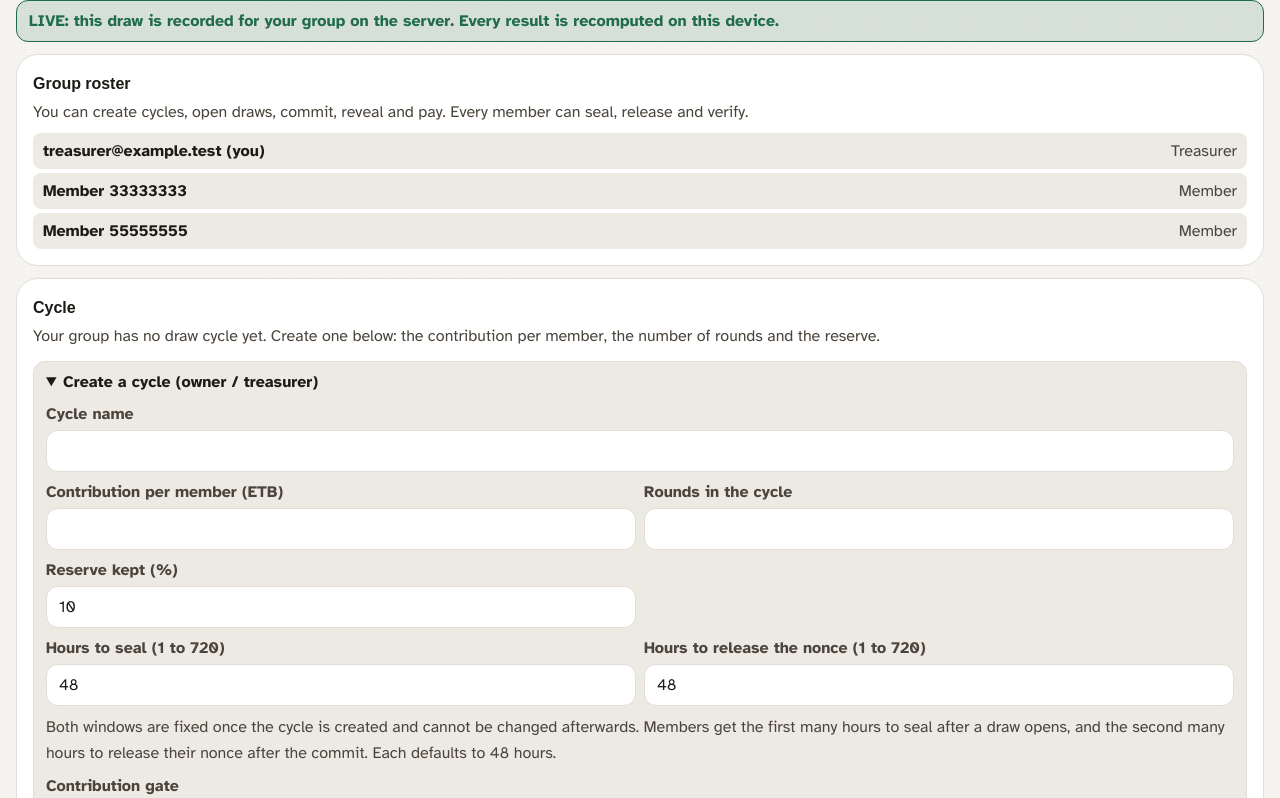
Test: signed in: cycles › refuses rounds beyond the number of members before asking the server
This screenshot has width=1280, height=798.
In the field labelled "Cycle name": (640, 451) [46, 430, 1234, 472], type "Too long"
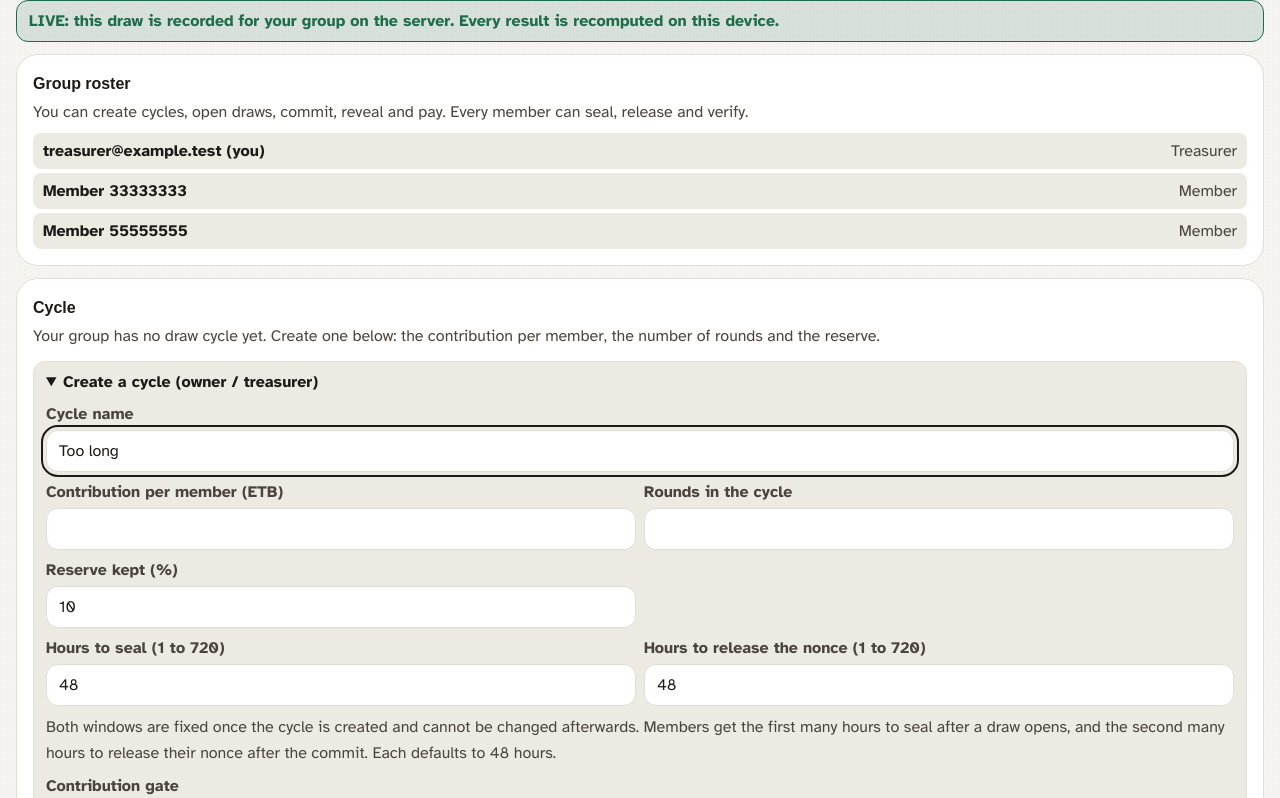
In the field labelled "Contribution per member (ETB)": (341, 529) [46, 508, 636, 550], type "1000"
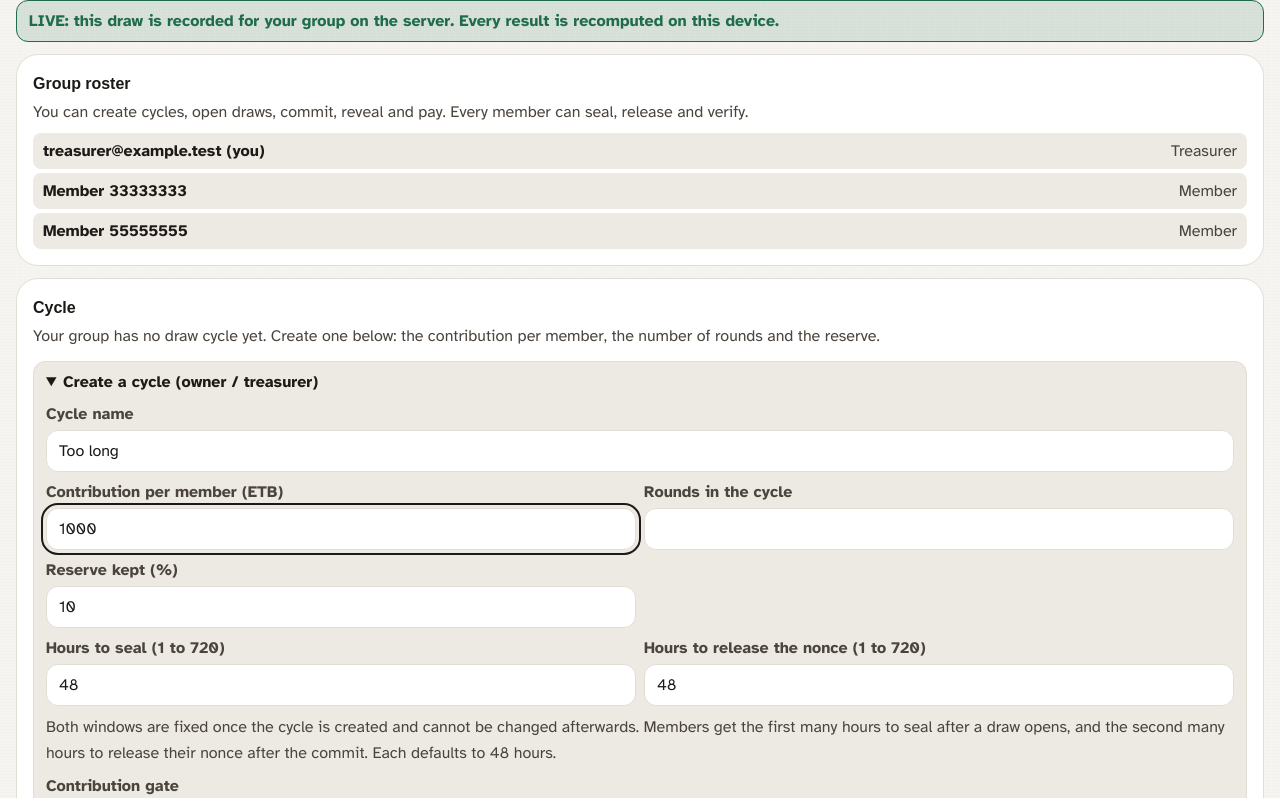
In the field labelled "Rounds in the cycle": (939, 529) [644, 508, 1234, 550], type "9"
(page scrolled)
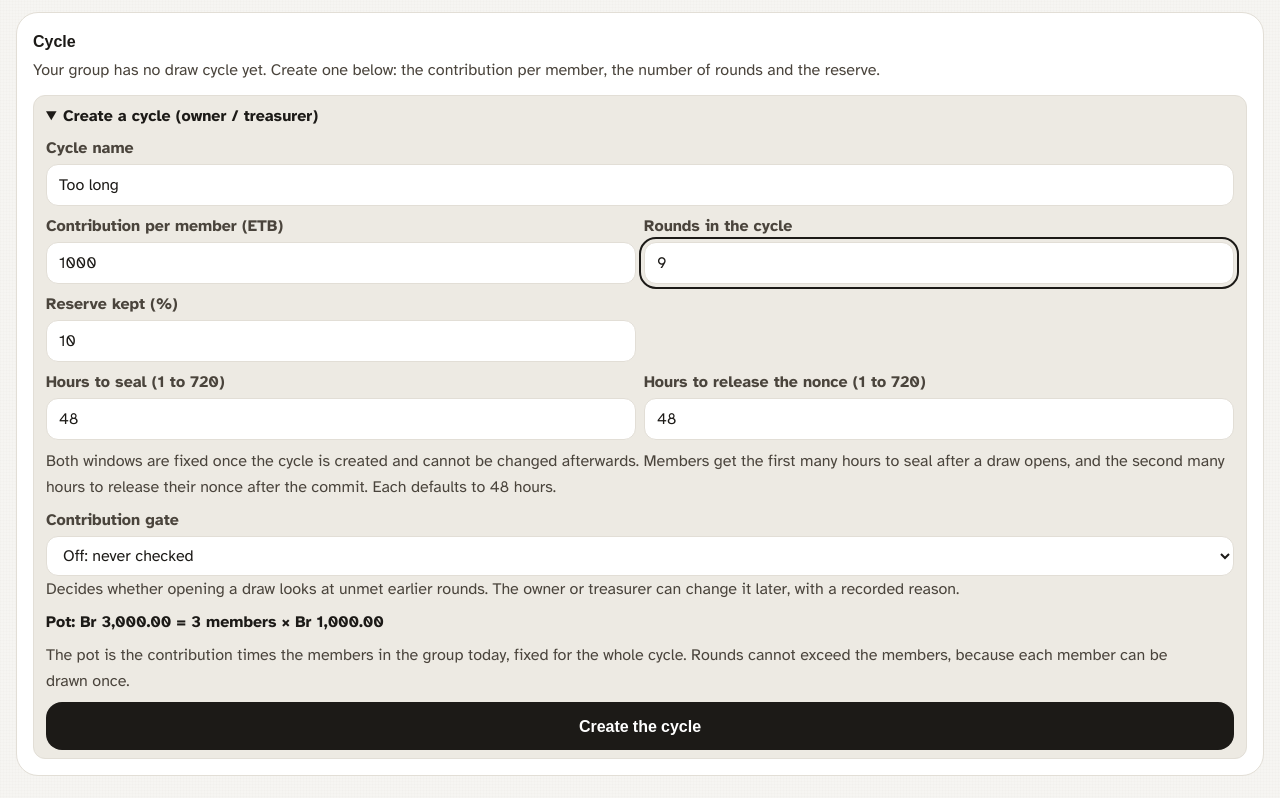
Click the button "Create the cycle": (640, 726) [46, 702, 1234, 750]
(page scrolled)
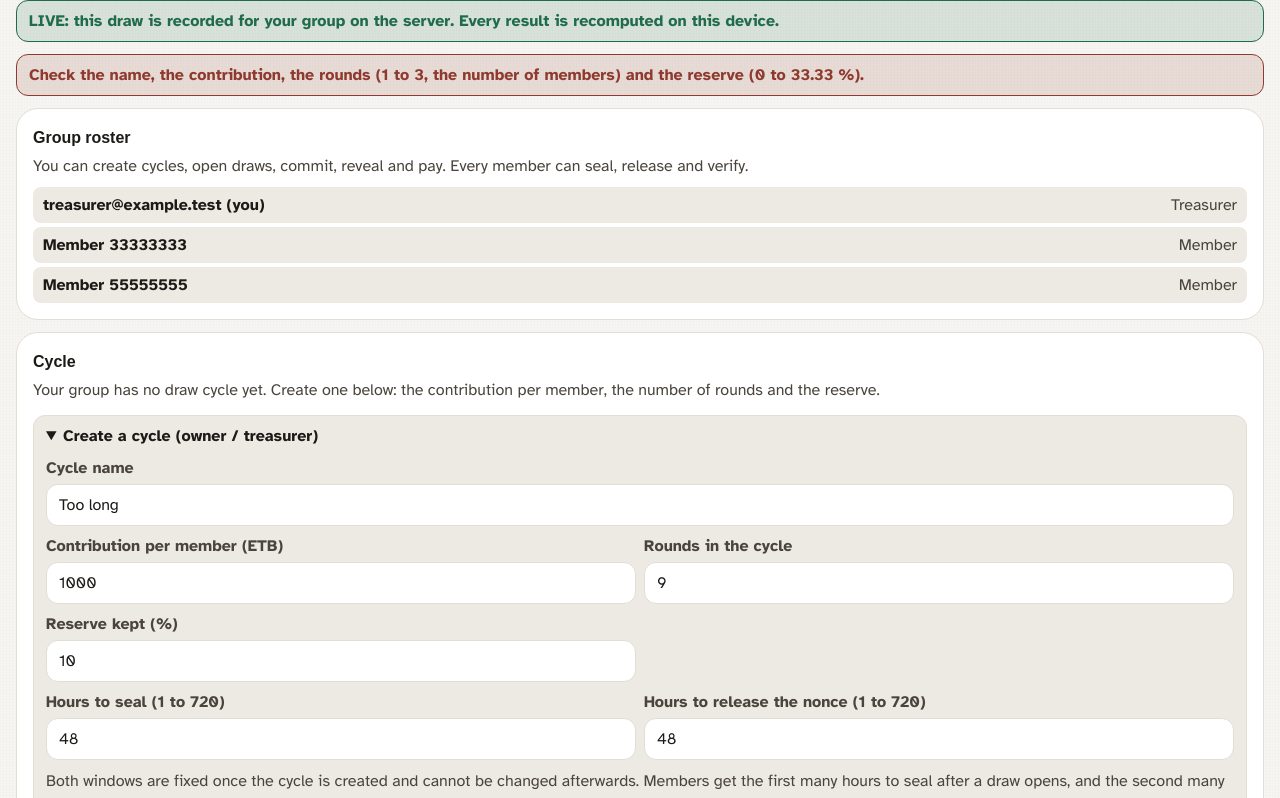
Expected: the message shows "rounds (1 to 3", [29, 65, 864, 85]
